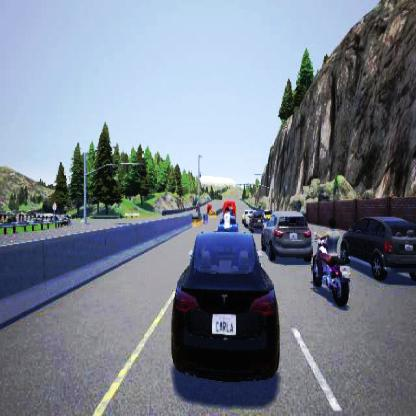bike: (221, 204, 230, 232)
motobike: (311, 216, 349, 308)
vehicle: (171, 200, 279, 381), (340, 212, 416, 283), (260, 208, 312, 262)
